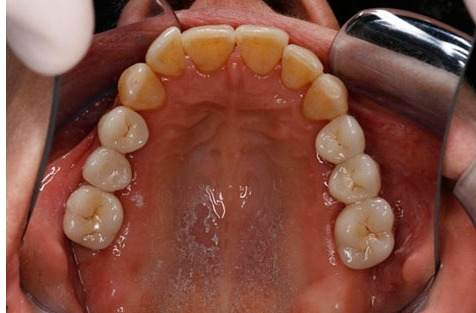UL1BC_healthy: (316, 119, 365, 157)
UL1M_healthy: (338, 205, 393, 265)
UL2BC_healthy: (328, 160, 382, 203)
ULCI_healthy: (237, 25, 285, 74)
ULC_healthy: (303, 80, 348, 119)
ULLI_healthy: (282, 49, 322, 86)
UR1BC_decay: (97, 110, 150, 149)
UR1M_decay: (65, 188, 123, 249)
UR2BC_healthy: (83, 150, 133, 188)
URCI_healthy: (181, 23, 236, 72)
URC_healthy: (118, 65, 166, 109)
URLI_healthy: (148, 30, 184, 76)
